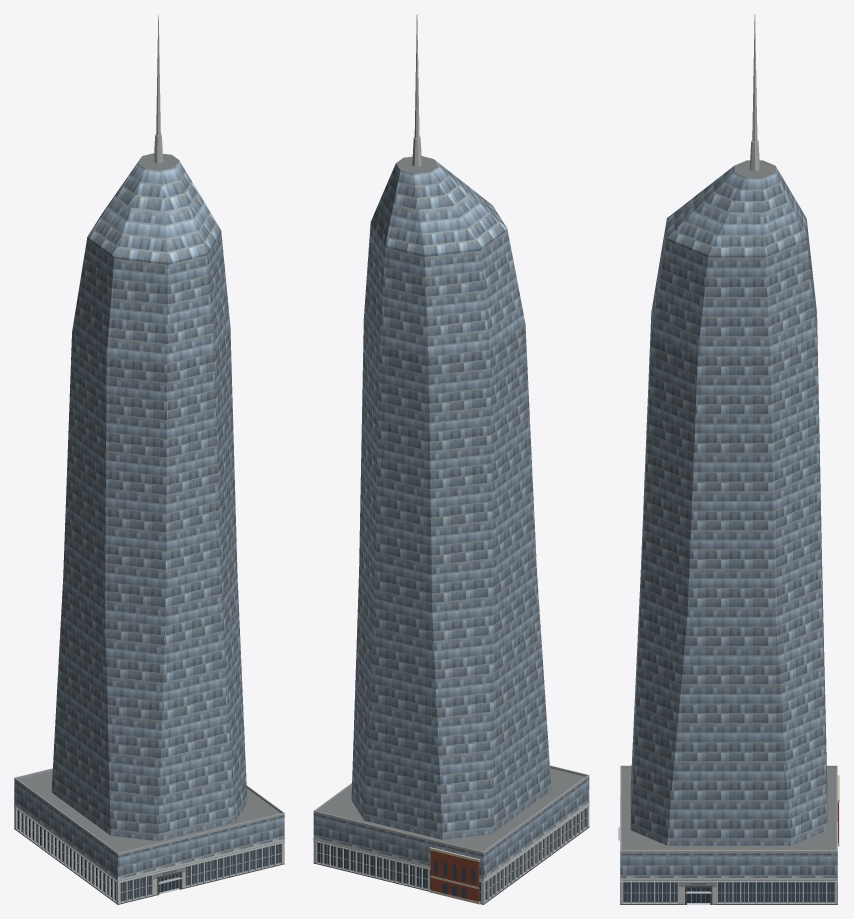
Rendered from bank_of_america_tower.glb.
The picture shows the model from 3 angles, left to right: view 1: azimuth 30°, elevation 25°; view 2: azimuth 150°, elevation 25°; view 3: azimuth 270°, elevation 25°; orthographic projection. The views are drawn at different scales.
Parts seen in each view (by area): view 1: bank_of_america_tower; view 2: bank_of_america_tower; view 3: bank_of_america_tower.
Boxes of the visible parts, x1,y1,x2,y2 form: bank_of_america_tower: [14, 14, 284, 904]; bank_of_america_tower: [313, 14, 589, 904]; bank_of_america_tower: [618, 14, 839, 904].
Size of the model in its own units: 78.86 by 366 by 85.47.
Materials: 2 (2 with a texture image).
